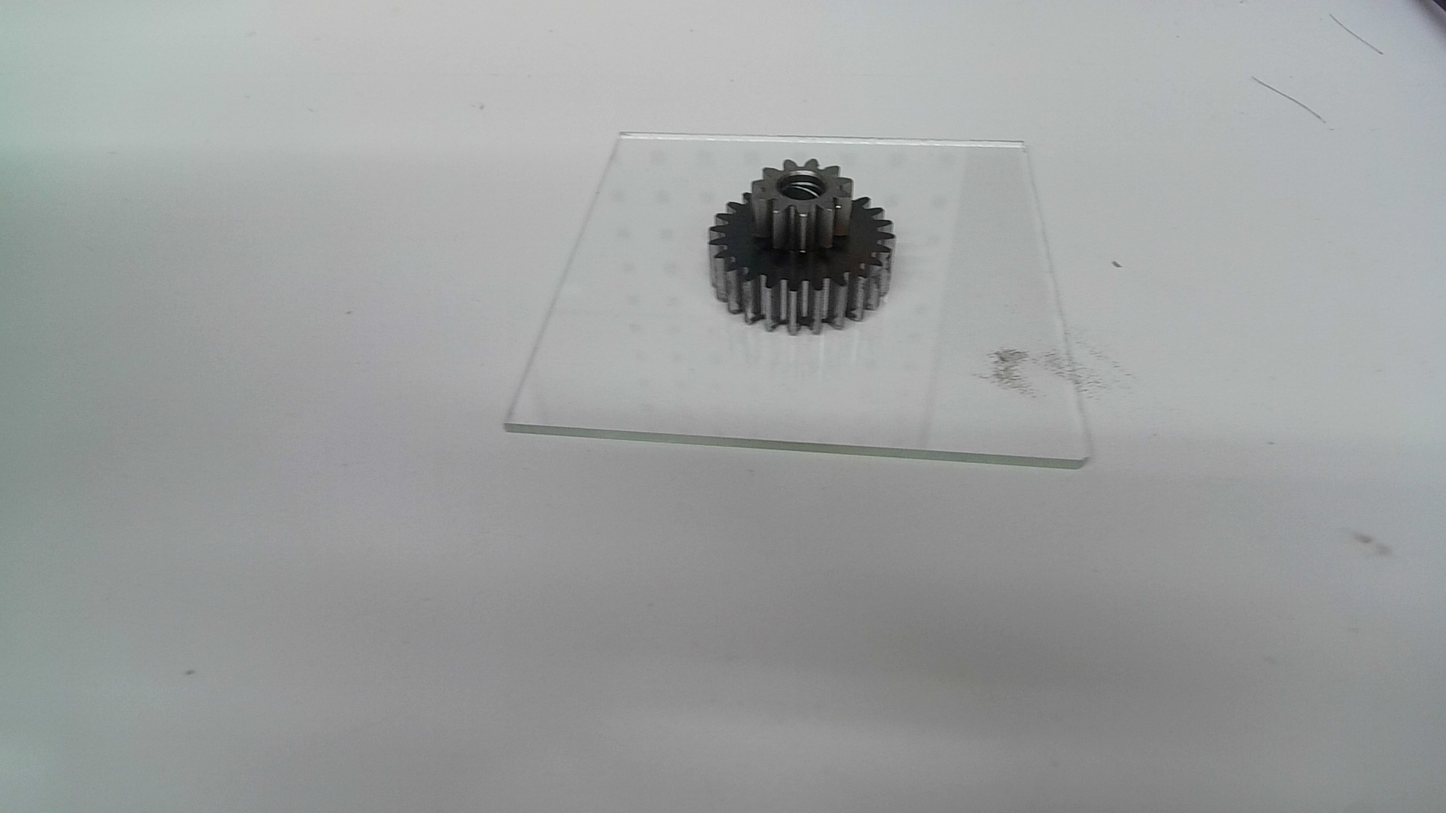gear: (704, 155, 896, 336)
